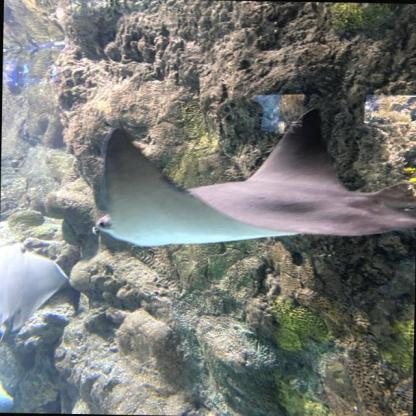stingray: (93, 102, 416, 254), (0, 239, 72, 338)
